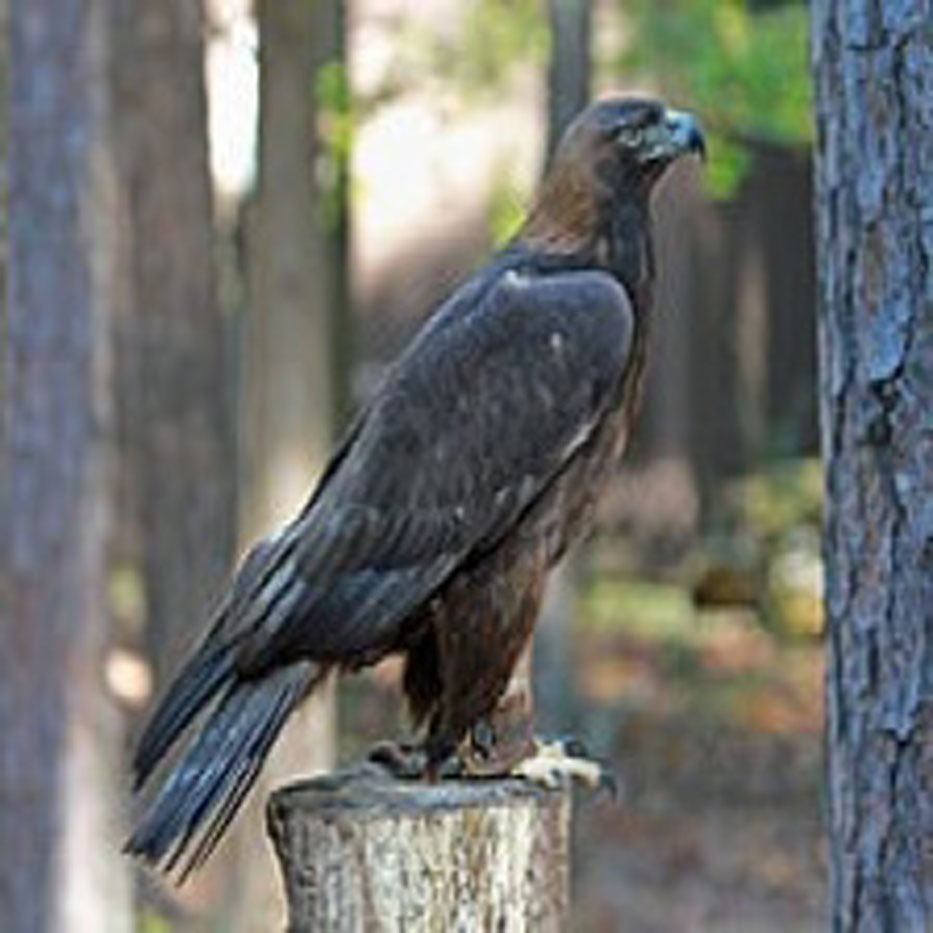Pengoyak Daging: (672, 106, 723, 172)
